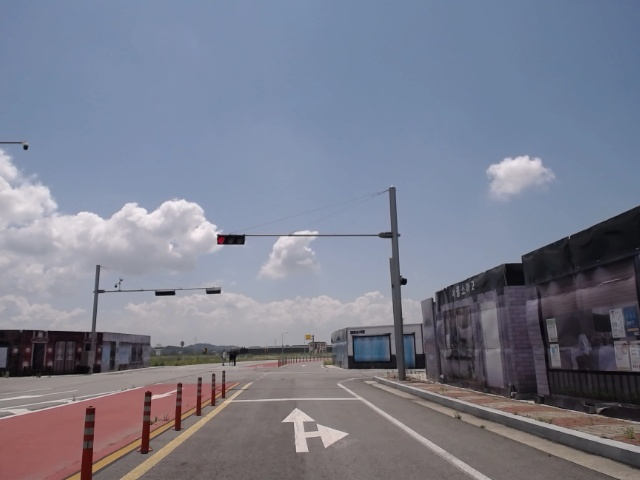red_3: (217, 234, 244, 245)
